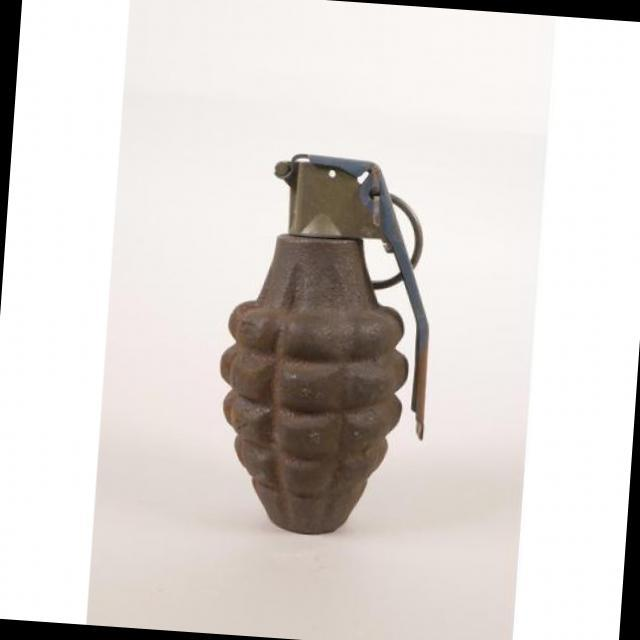grenade: (201, 143, 449, 550)
